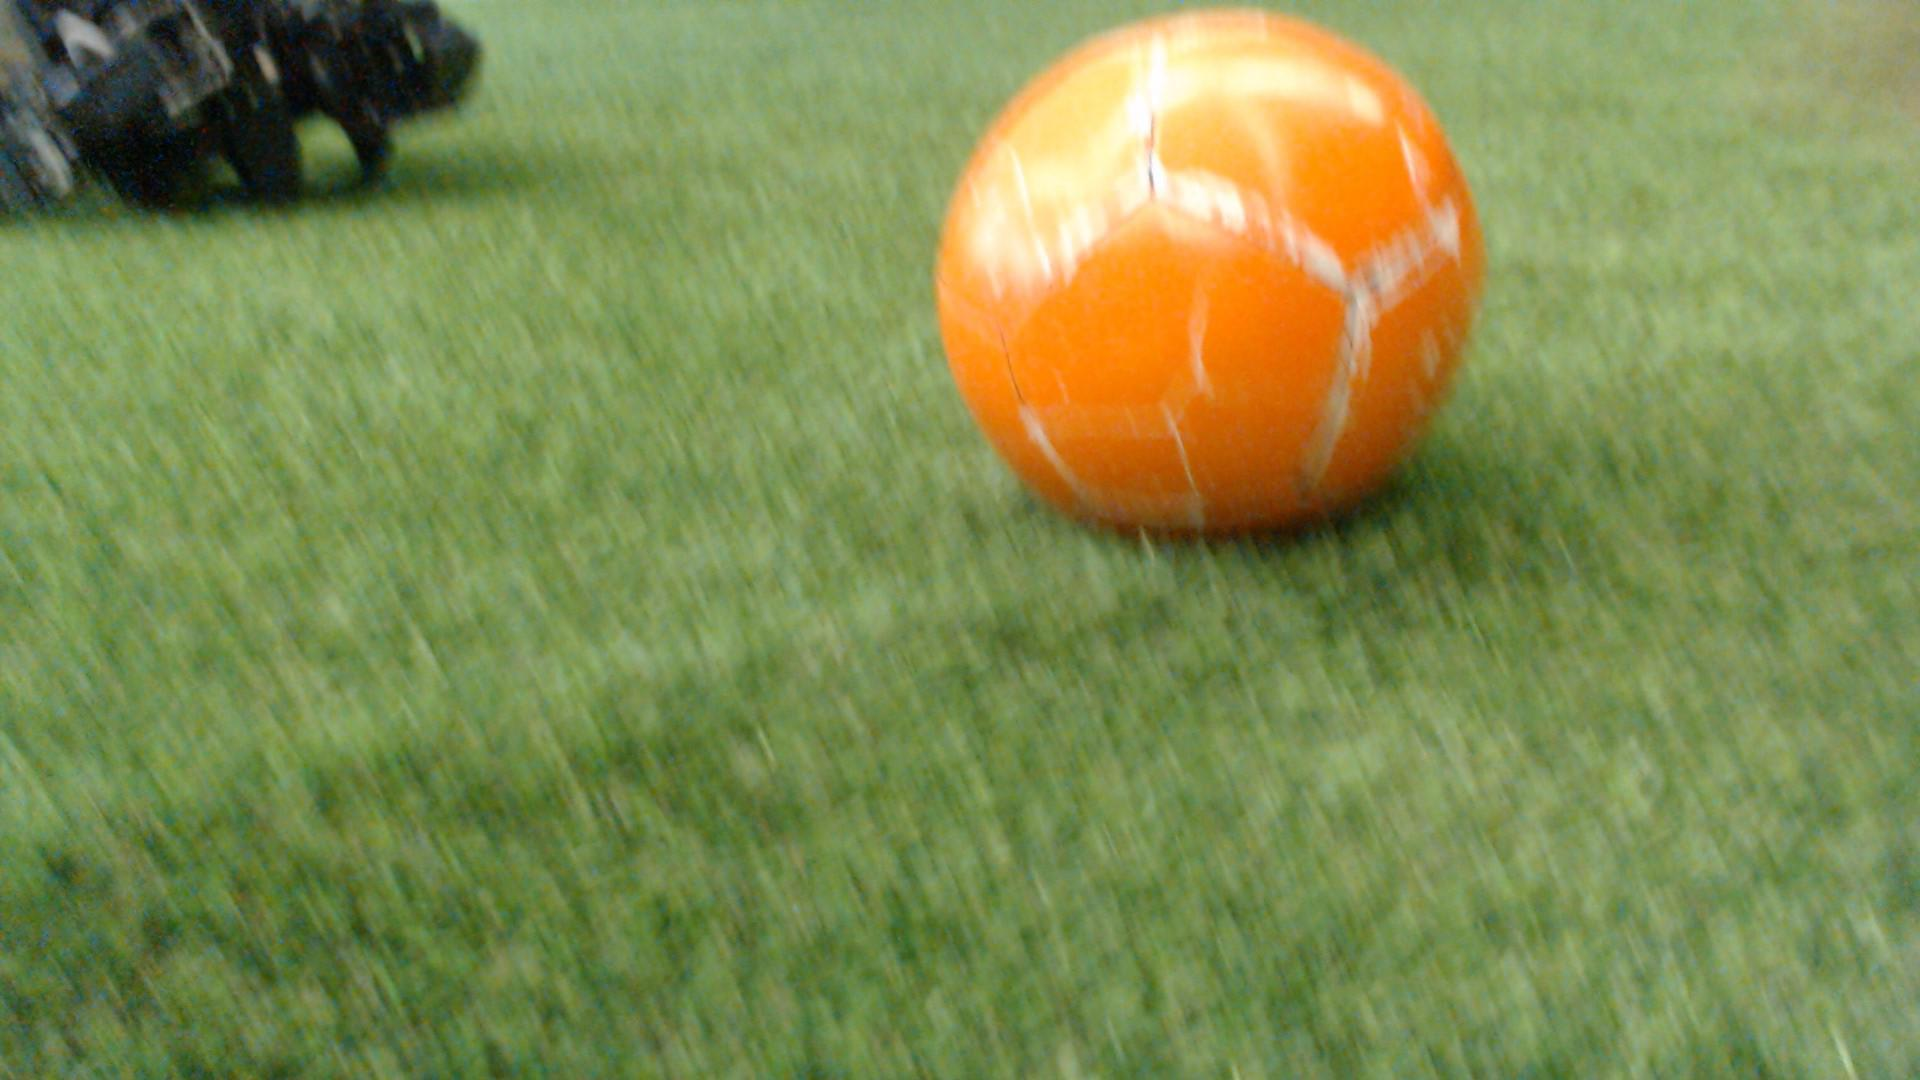bola: (918, 0, 1542, 582)
